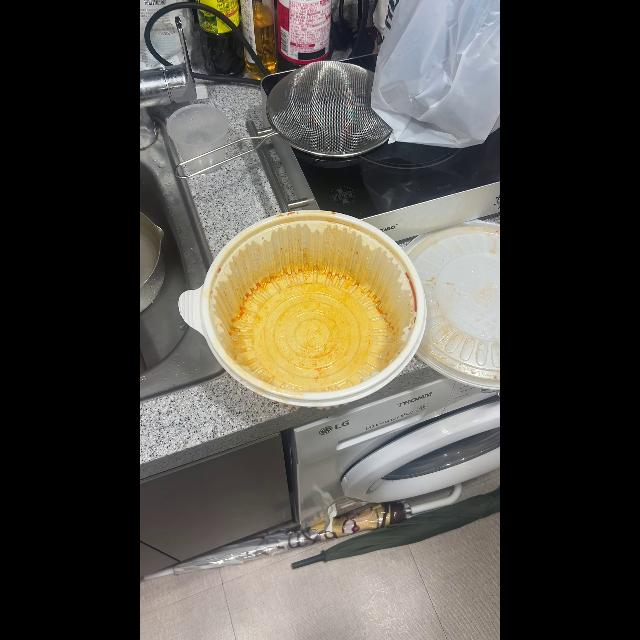dirty: (204, 212, 420, 400)
